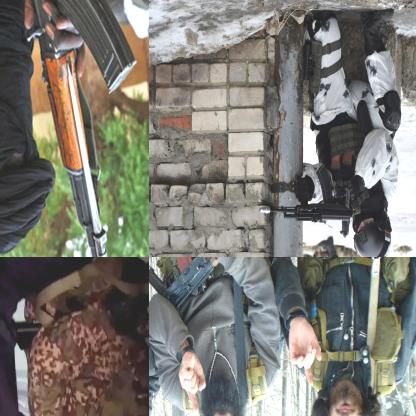rifle: (14, 0, 138, 256), (259, 161, 355, 238), (149, 257, 254, 317)
